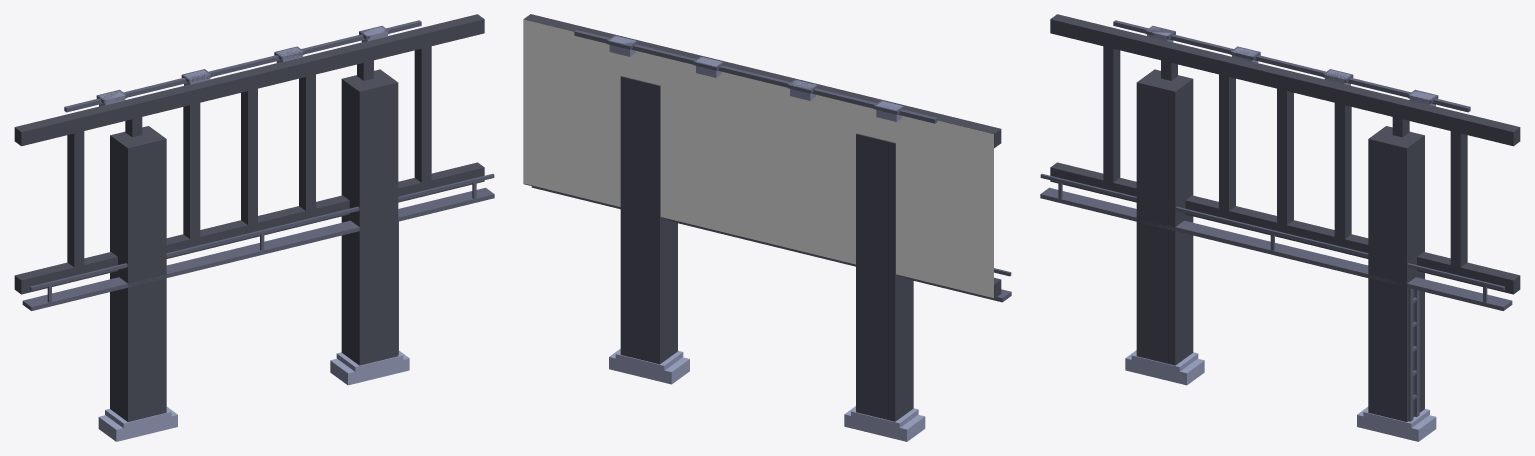
File: panneau-4x3.glb
The picture shows the model from 3 angles, left to right: view 1: azimuth 30°, elevation 25°; view 2: azimuth 150°, elevation 25°; view 3: azimuth 330°, elevation 25°; orthographic projection.
Visible parts, largest first — view 1: panneau-4x3; view 2: panneau-4x3; view 3: panneau-4x3.
Part boxes in pixels (<box>): panneau-4x3: <box>14,14,494,441</box>; panneau-4x3: <box>523,14,1011,441</box>; panneau-4x3: <box>1040,14,1520,441</box>.
Size of the model in its own units: 12 by 8.13 by 1.08.
Materials: 2 (2 with a texture image).
